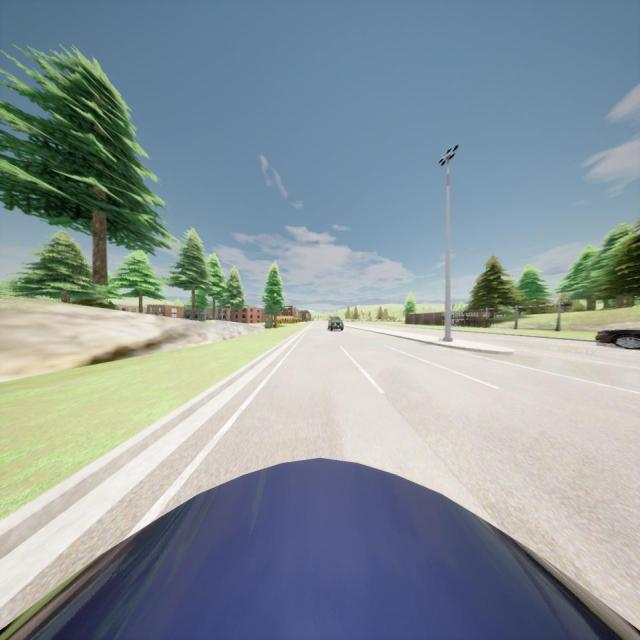Vehicle: (1, 456, 640, 640), (595, 328, 640, 350), (328, 316, 344, 331)
